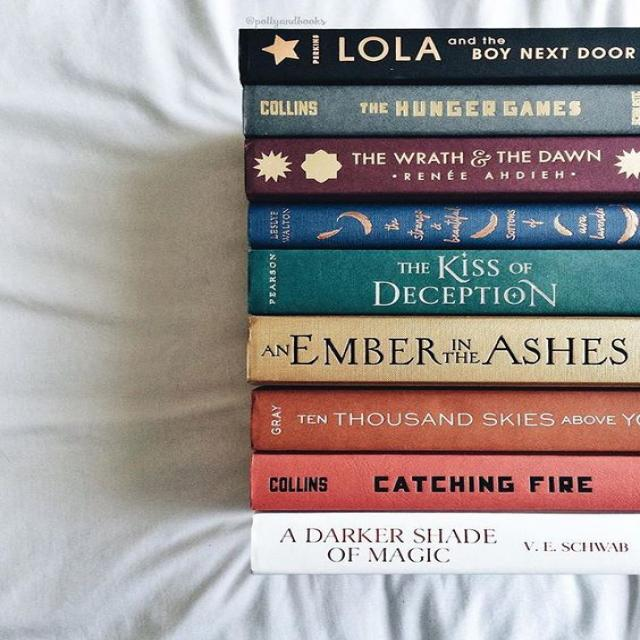book: (246, 315, 639, 385), (246, 137, 639, 201), (249, 250, 639, 314), (251, 388, 639, 451), (251, 513, 639, 574), (239, 28, 639, 85), (251, 455, 639, 510), (245, 86, 639, 135), (249, 204, 639, 248)
